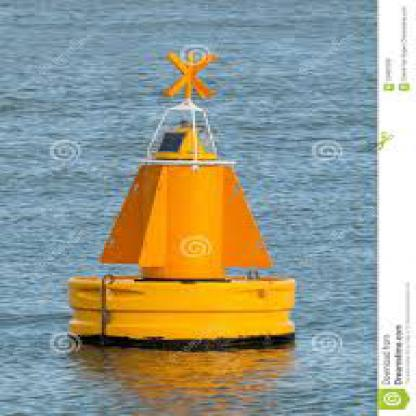buoy: (67, 47, 284, 348)
